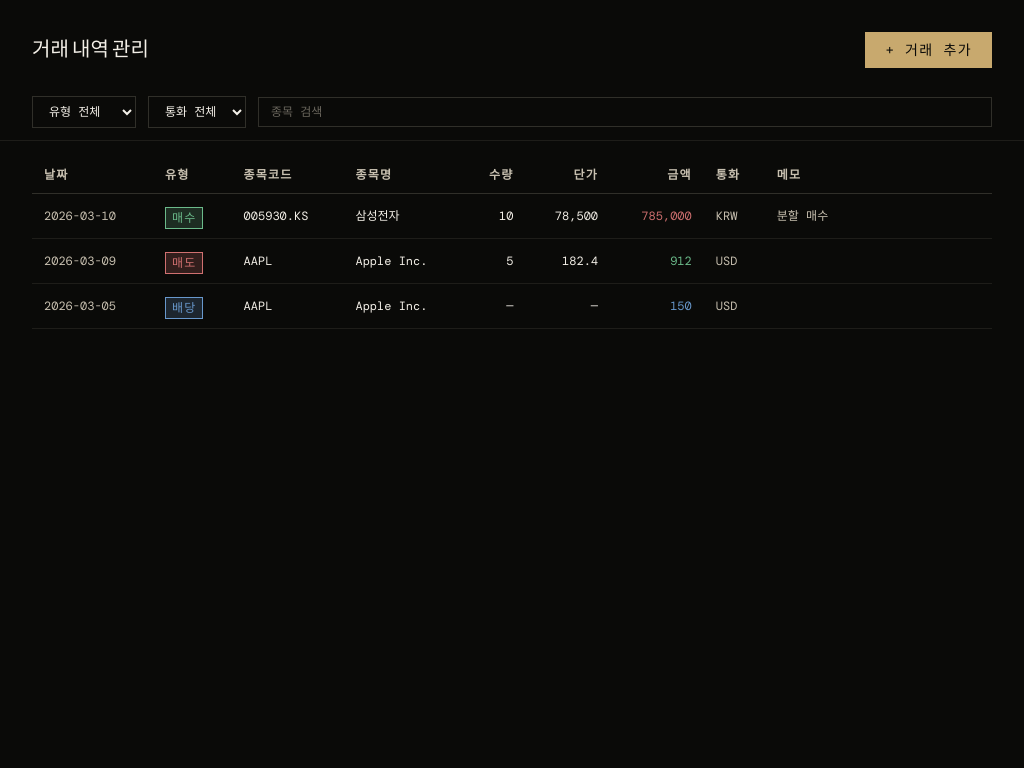
Test case: TransactionsClientShell › [+ 거래 추가] 클릭 → 폼 모달 열림
Click the button "+ 거래 추가" at [929, 50], box [866, 32, 992, 68]
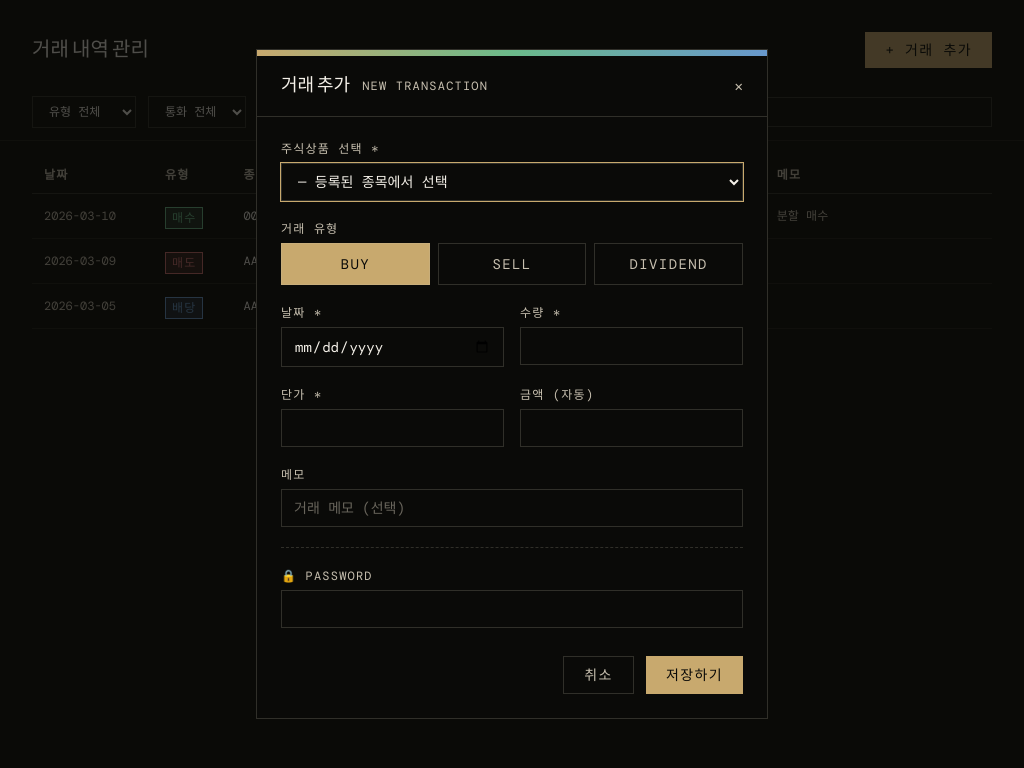
Expected: the dialog is shown, [256, 49, 768, 719]
